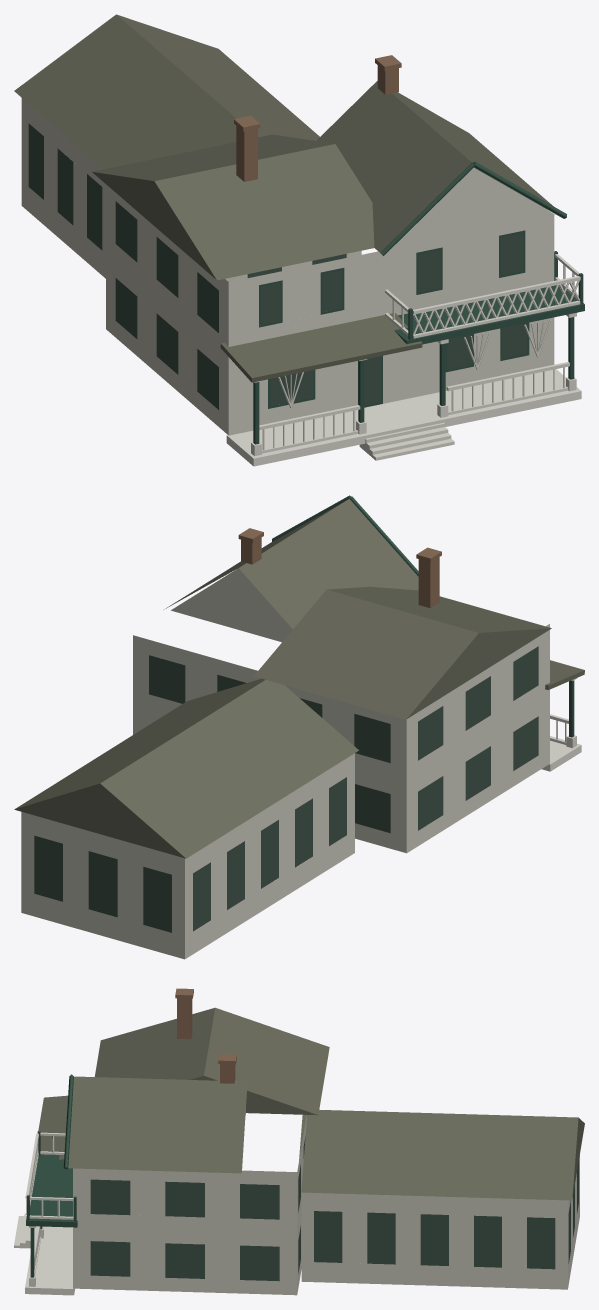
The model's file is haney-house-near.glb.
3 renders of one model, top to bottom at view 1: azimuth 30°, elevation 25°; view 2: azimuth 150°, elevation 25°; view 3: azimuth 270°, elevation 25°, orthographic. The views are drawn at different scales.
Parts seen in each view (by area): view 1: haney-house-0-roof, haney-house-0-stone, haney-house-0-trim, haney-house-0-glass, haney-house-0-green, haney-house-0-brick; view 2: haney-house-0-roof, haney-house-0-stone, haney-house-0-glass, haney-house-0-brick, haney-house-0-green, haney-house-0-trim; view 3: haney-house-0-roof, haney-house-0-stone, haney-house-0-glass, haney-house-0-trim, haney-house-0-green, haney-house-0-brick.
Part boxes in pixels (left/top/right/bottom): haney-house-0-roof: left=14, top=14, right=553, bottom=382; haney-house-0-stone: left=21, top=98, right=554, bottom=435; haney-house-0-trim: left=226, top=254, right=581, bottom=466; haney-house-0-glass: left=28, top=123, right=526, bottom=409; haney-house-0-green: left=253, top=161, right=584, bottom=444; haney-house-0-brick: left=234, top=55, right=401, bottom=181; haney-house-0-roof: left=14, top=499, right=584, bottom=858; haney-house-0-stone: left=21, top=568, right=549, bottom=959; haney-house-0-glass: left=34, top=646, right=538, bottom=932; haney-house-0-brick: left=238, top=528, right=441, bottom=608; haney-house-0-green: left=272, top=495, right=574, bottom=737; haney-house-0-trim: left=541, top=678, right=581, bottom=771; haney-house-0-roof: left=38, top=1007, right=584, bottom=1200; haney-house-0-stone: left=73, top=1110, right=579, bottom=1295; haney-house-0-glass: left=90, top=1136, right=578, bottom=1281; haney-house-0-trim: left=14, top=1132, right=74, bottom=1295; haney-house-0-green: left=26, top=1074, right=77, bottom=1277; haney-house-0-brick: left=175, top=988, right=236, bottom=1083.
Size of the model in its own units: 13.47 by 10.2 by 24.38.
